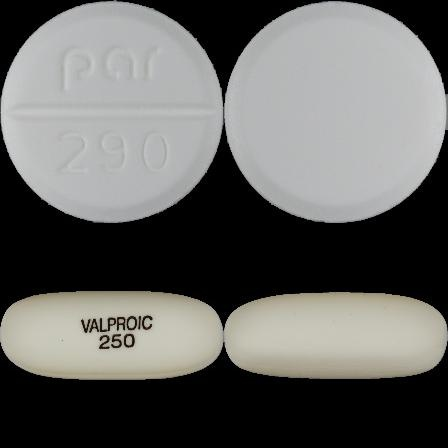54868-1629: (0, 0, 224, 224)
